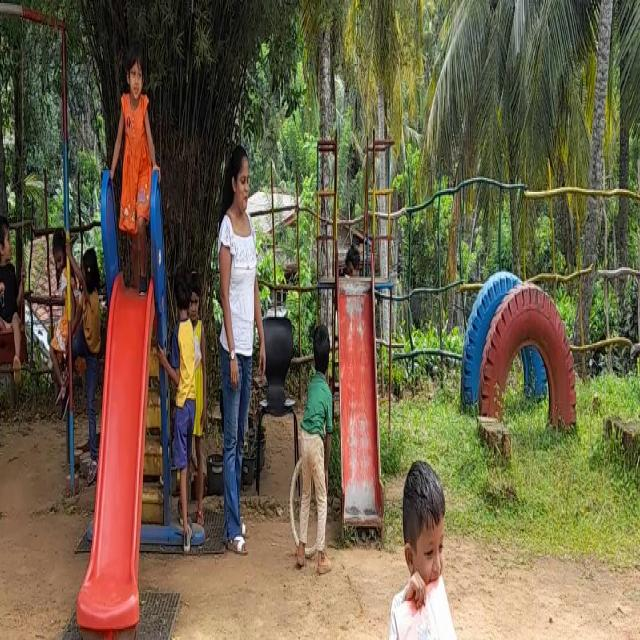adult: (216, 132, 265, 552)
child: (295, 313, 351, 581), (386, 466, 471, 640), (113, 41, 158, 280), (173, 280, 204, 532), (72, 232, 102, 461), (0, 187, 28, 382)
